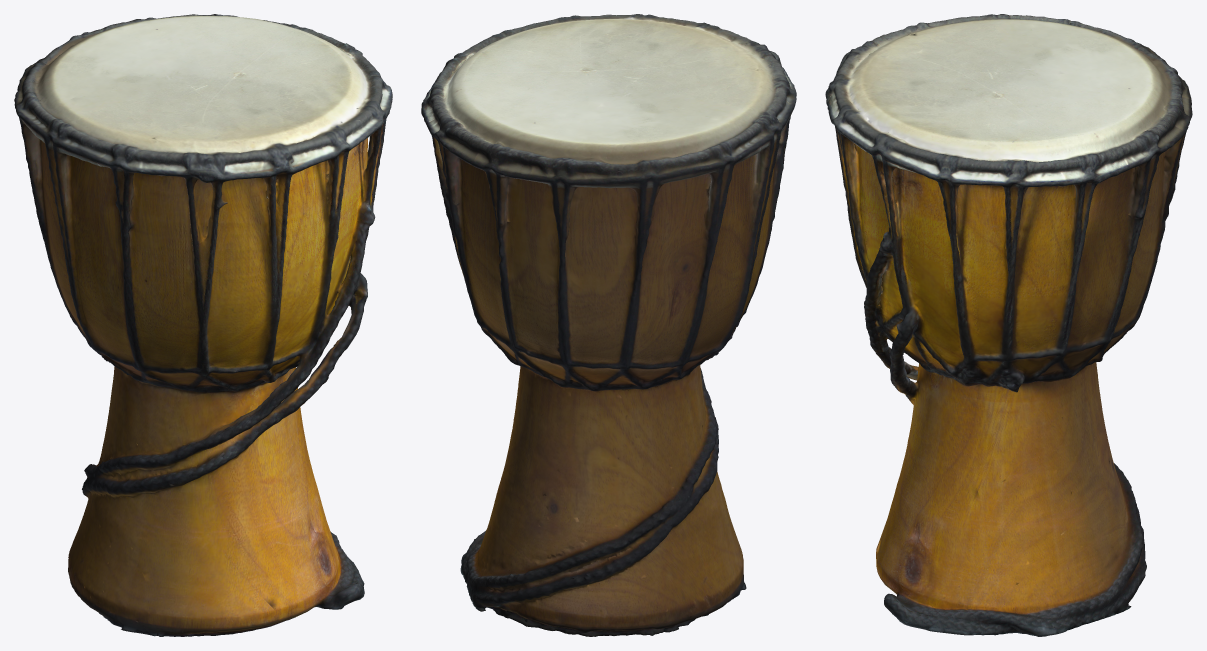
The model's file is drum.fbx.
3 views of the same model, side by side, from view 1: azimuth 30°, elevation 25°; view 2: azimuth 150°, elevation 25°; view 3: azimuth 270°, elevation 25° (orthographic). The views are drawn at different scales.
Parts seen in each view (by area): view 1: Model_material0_0; view 2: Model_material0_0; view 3: Model_material0_0.
Part boxes in pixels (x1=…): Model_material0_0: x1=14, y1=14, x2=392, y2=636; Model_material0_0: x1=421, y1=14, x2=796, y2=636; Model_material0_0: x1=825, y1=14, x2=1192, y2=636.
Bounding box in the file's own units: 190 × 283 × 191.
1 material, 1 textured.
